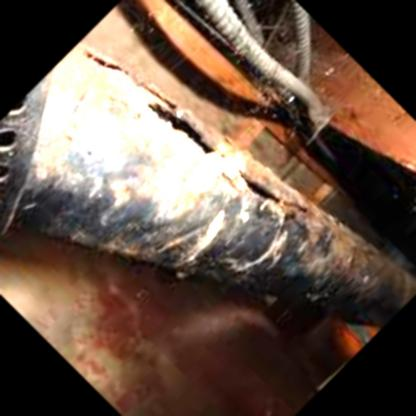burst: (235, 173, 319, 216), (147, 106, 214, 158)
